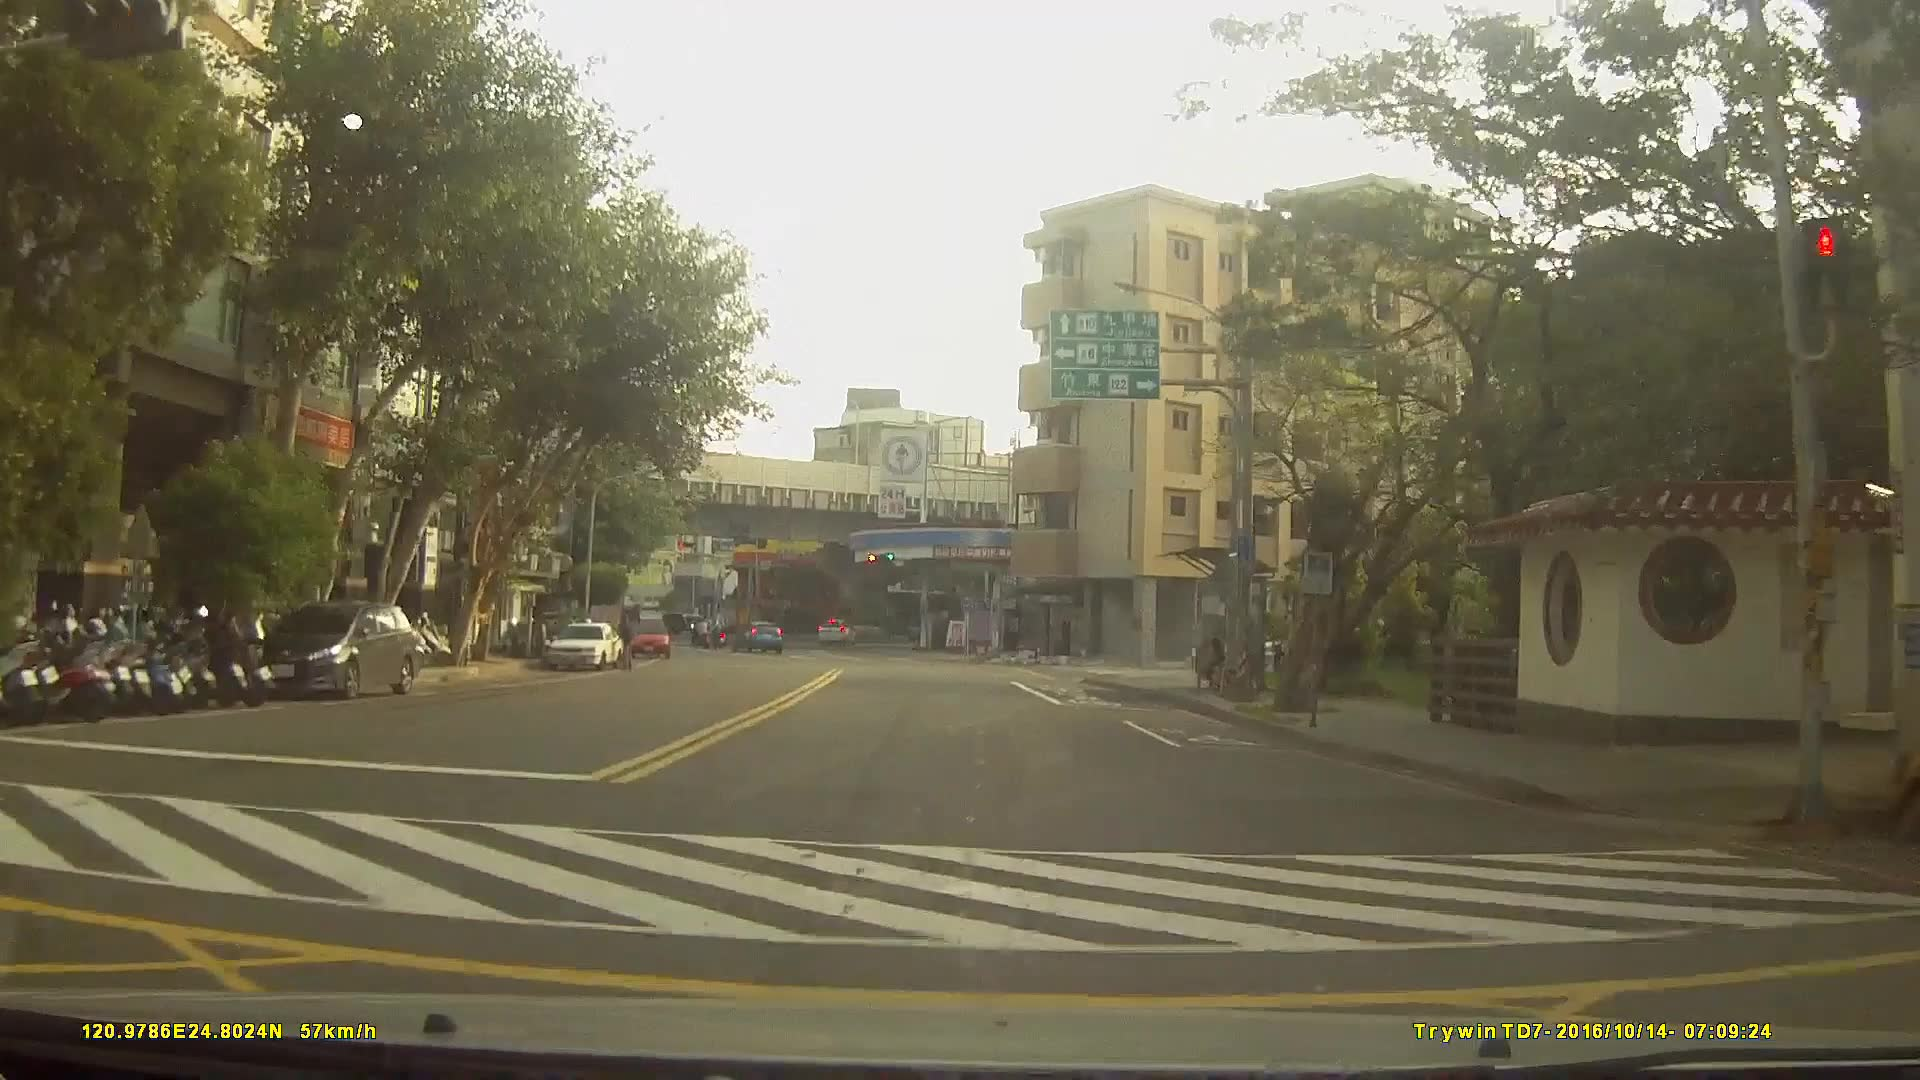rider: (688, 616, 713, 651)
vehicle: (252, 597, 419, 700), (544, 620, 625, 674), (627, 614, 671, 655), (729, 617, 783, 650), (816, 612, 857, 640)
